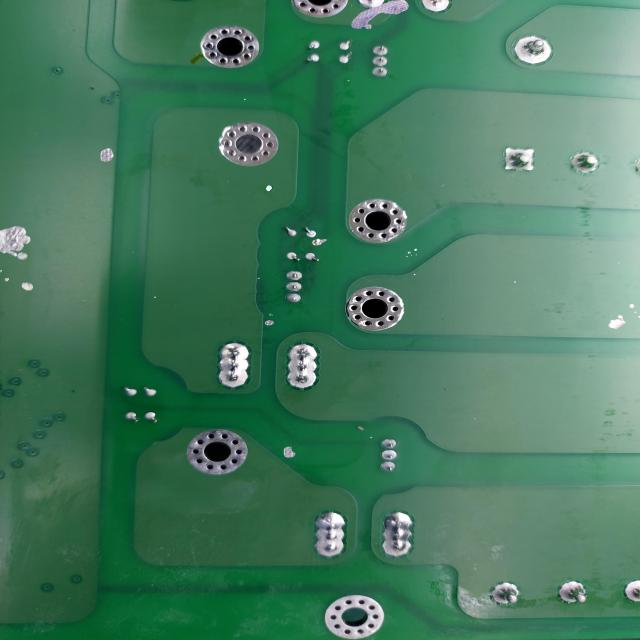spillover: (0, 208, 44, 303), (598, 300, 640, 334), (88, 145, 123, 166), (279, 443, 304, 465)
